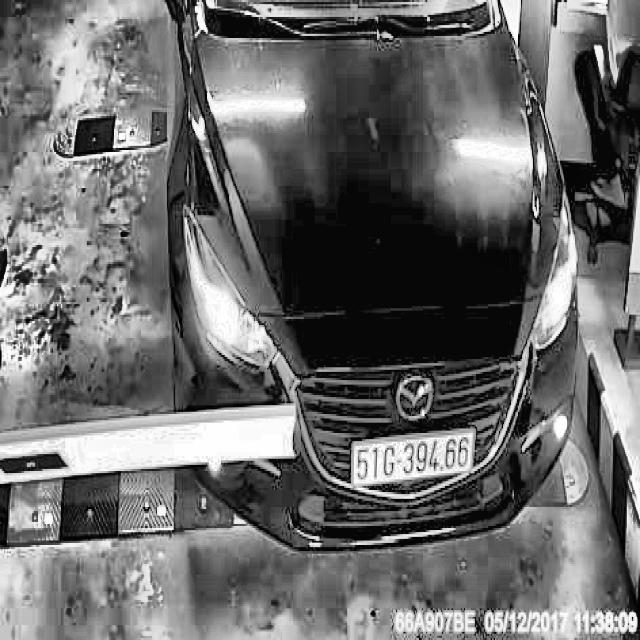plate: (348, 424, 478, 492)
